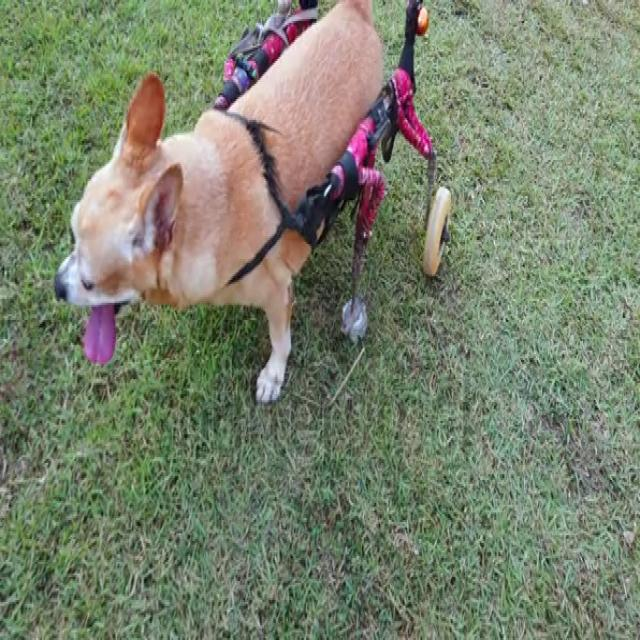injured-animals: (51, 2, 454, 409)
